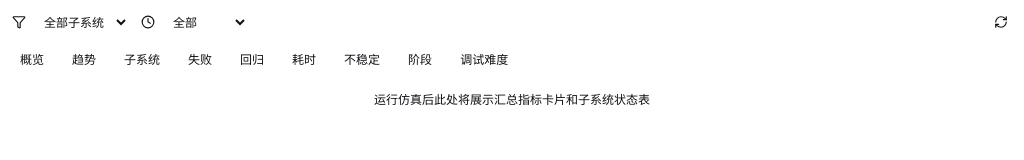
Scenario: DashboardPanel › tab switching › shows different empty state hint when switching tabs
Check: the text "运行仿真后此处将展示汇总指标卡片和子系统状态表" is shown, box [374,92,650,108]
// Switch to trend tab
Click the button "趋势" at x=84, y=60, box [60,44,108,76]
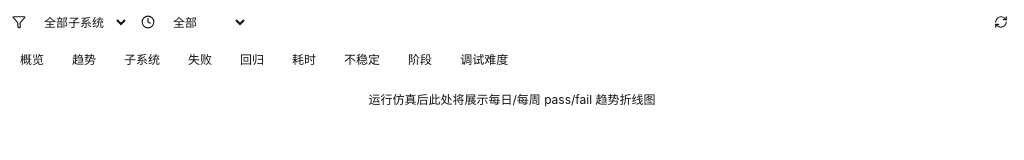
Check: the text "运行仿真后此处将展示每日/每周 pass/fail 趋势折线图" is shown, box [368,92,656,108]
// Switch to failures tab
Click the button "失败" at x=200, y=60, box [176,44,224,76]
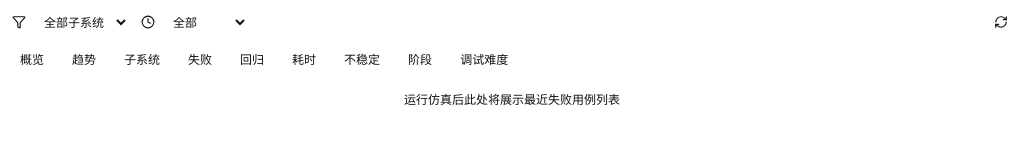
Check: the text "运行仿真后此处将展示最近失败用例列表" is shown, box [404,92,620,108]
